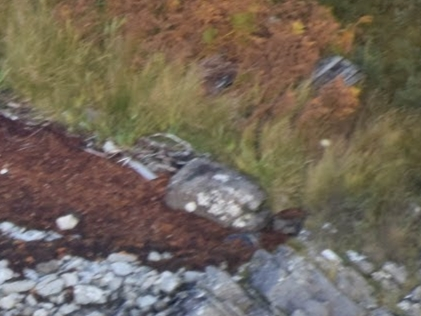white_in_green: (293, 33, 383, 110), (41, 200, 95, 248)
